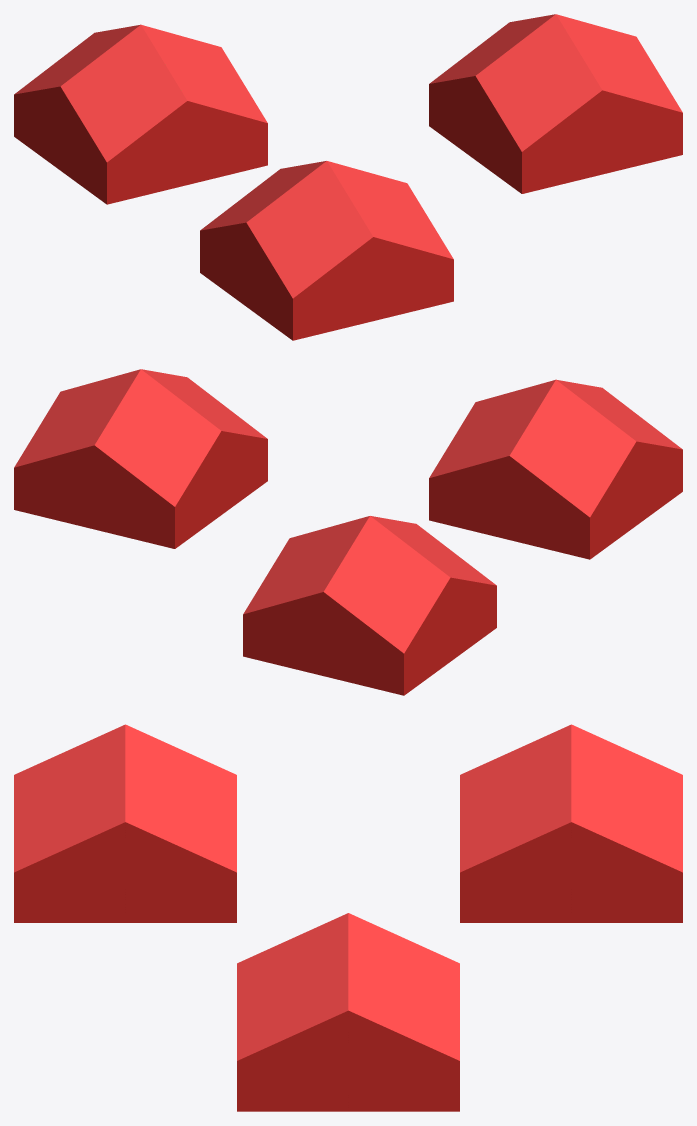
File: Tomato_001-1.fbx
The picture shows the model from 3 angles, top to bottom: view 1: azimuth 30°, elevation 25°; view 2: azimuth 150°, elevation 25°; view 3: azimuth 270°, elevation 25°; orthographic projection. The views are drawn at different scales.
Parts seen in each view (by area): view 1: Tomato_001-1; view 2: Tomato_001-1; view 3: Tomato_001-1.
Boxes of the visible parts, <box> form: Tomato_001-1: <box>14,14,682,340</box>; Tomato_001-1: <box>14,369,682,695</box>; Tomato_001-1: <box>14,724,682,1111</box>.
Bounding box in the file's own units: 18.75 × 4.69 × 18.75.
1 material, 1 textured.
